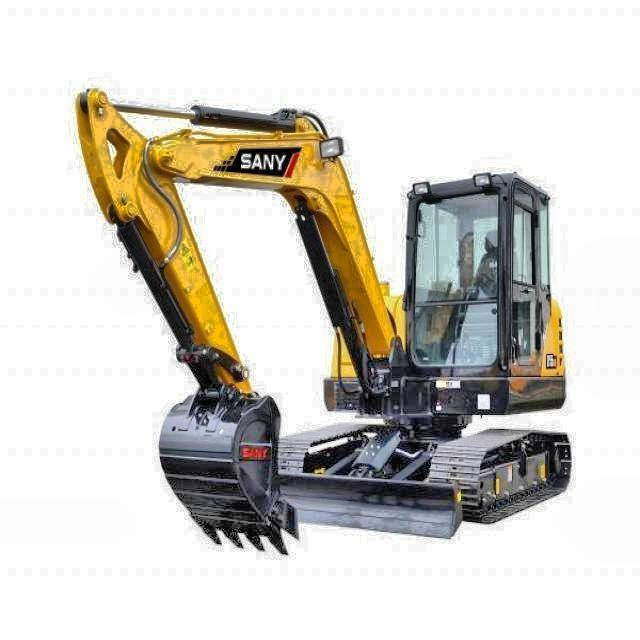excavator: (73, 82, 574, 560)
